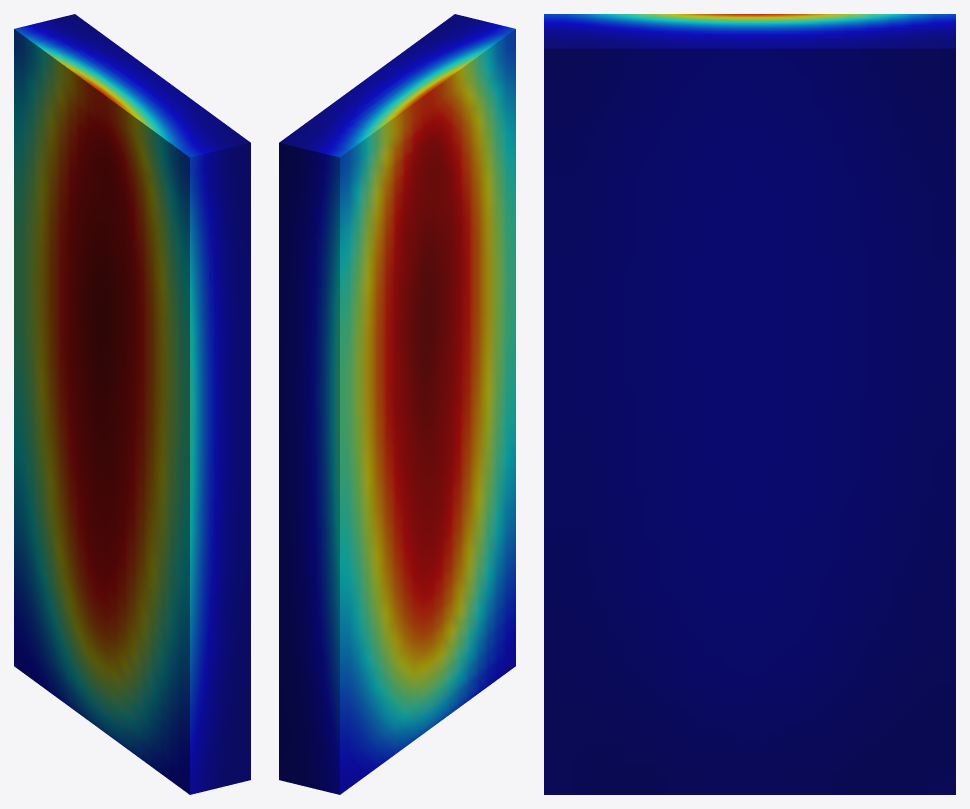
Rendered from AR_Wall.glb.
The picture shows the model from 3 angles, left to right: view 1: azimuth 30°, elevation 25°; view 2: azimuth 150°, elevation 25°; view 3: azimuth 270°, elevation 25°; orthographic projection. The views are drawn at different scales.
Parts seen in each view (by area): view 1: AR_wall; view 2: AR_wall; view 3: AR_wall.
Part boxes in pixels (bbox=[...]): AR_wall: bbox=[14, 14, 250, 794]; AR_wall: bbox=[279, 14, 515, 794]; AR_wall: bbox=[544, 14, 955, 794].
Bounding box in the file's own units: 0.2 × 2 × 1.
